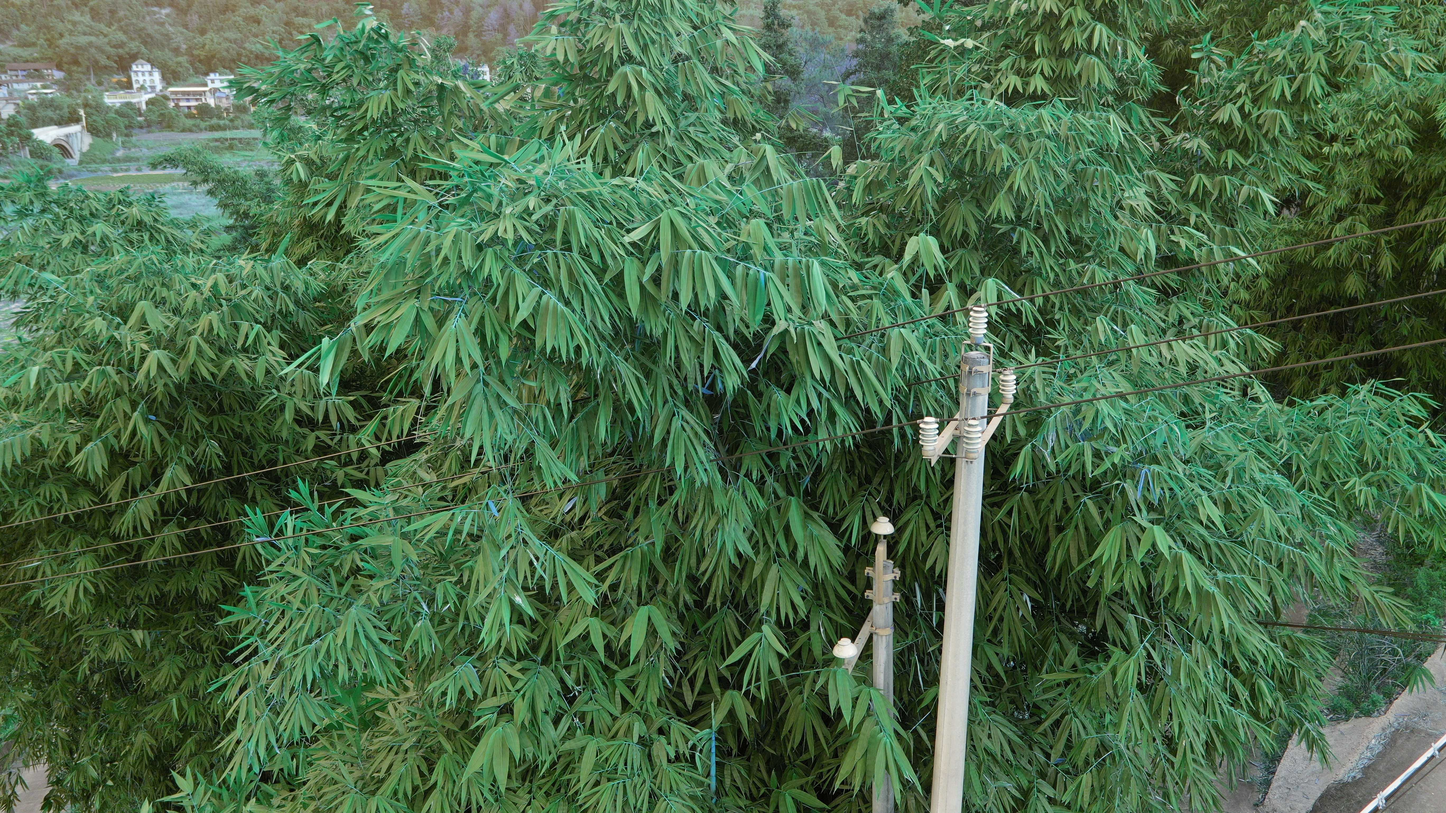severe_soiling_no_discharge_whole: (917, 414, 940, 456), (961, 417, 983, 459), (998, 367, 1017, 405)
